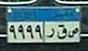9: (16, 23, 26, 40), (8, 23, 17, 40), (34, 24, 43, 40), (25, 24, 34, 40)
qaaf: (56, 23, 67, 39)
raa: (45, 27, 55, 40)
saad: (68, 27, 78, 40)
